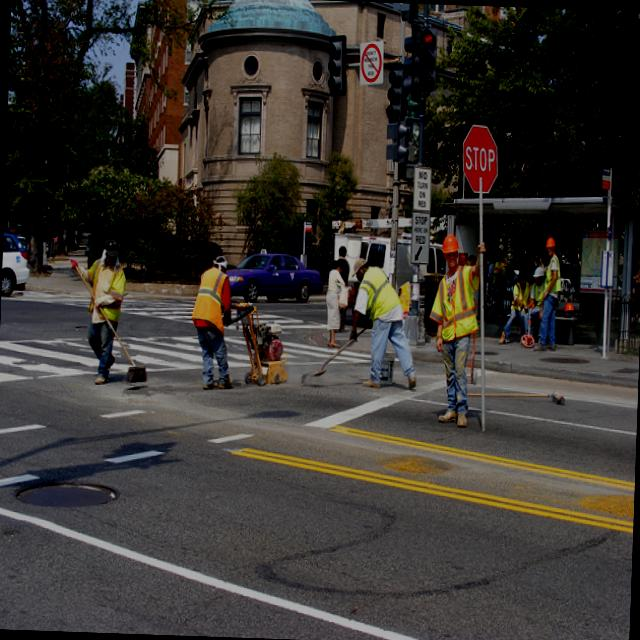Vehicle: (348, 235, 447, 328), (224, 252, 324, 304), (1, 231, 30, 296), (15, 235, 49, 253), (511, 272, 534, 284), (560, 277, 574, 287)
